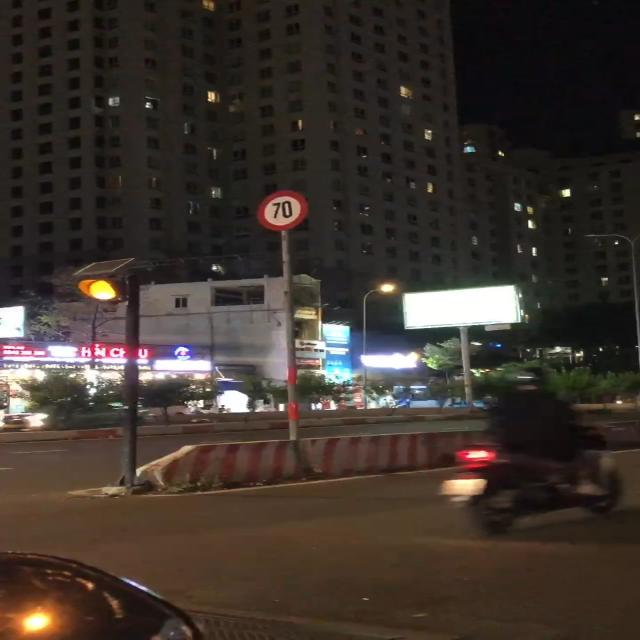Bien bao toc do toi da cho phep: (252, 186, 316, 232)
